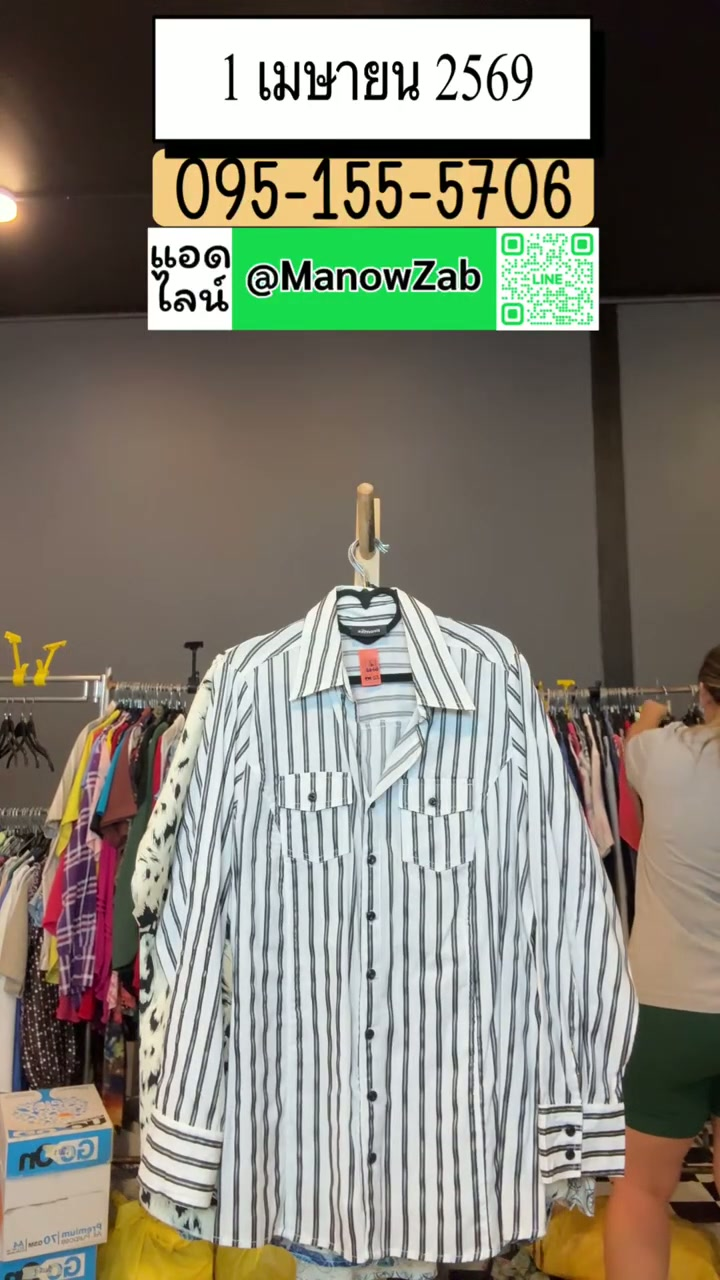display_shirt: (141, 590, 635, 1259)
